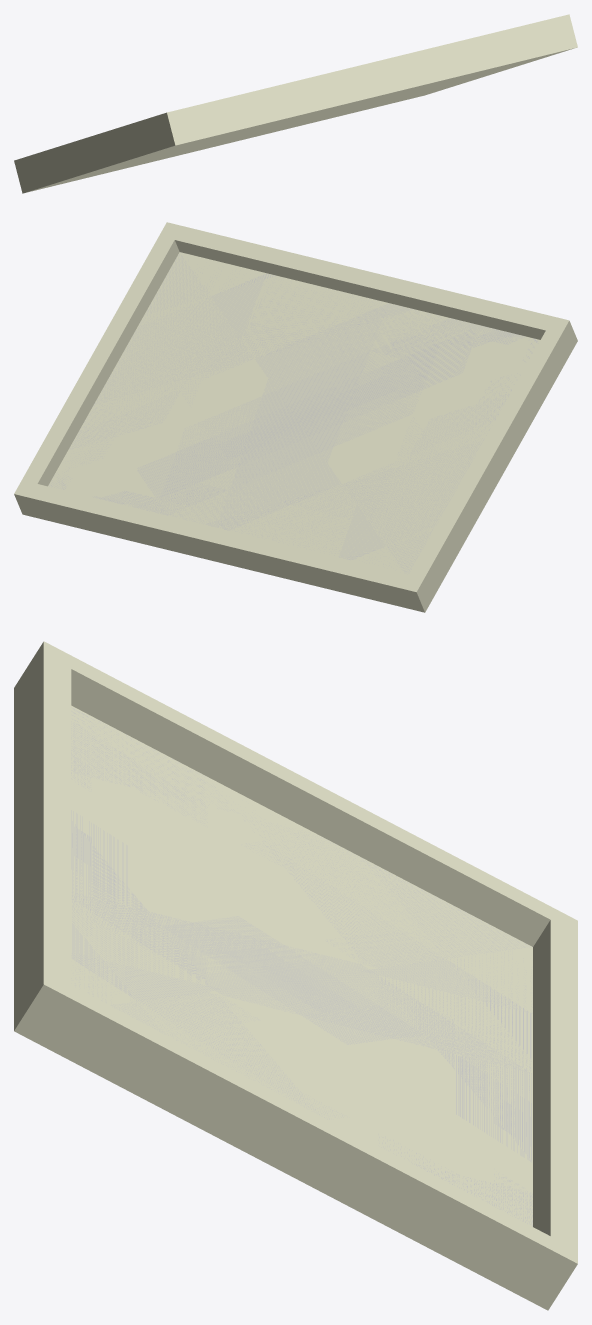
The model's file is original-2.obj.
3 renders of one model, top to bottom at view 1: azimuth 30°, elevation 25°; view 2: azimuth 150°, elevation 25°; view 3: azimuth 270°, elevation 25°, orthographic. The views are drawn at different scales.
Visible parts, largest first — view 1: Group28/mesh25/mesh25-geometry#mesh25-geometry; view 2: Group28/mesh25/mesh25-geometry#mesh25-geometry; view 3: Group28/mesh25/mesh25-geometry#mesh25-geometry.
Boxes of the visible parts, x1,y1,x2,y2 form: Group28/mesh25/mesh25-geometry#mesh25-geometry: [14, 14, 577, 193]; Group28/mesh25/mesh25-geometry#mesh25-geometry: [14, 222, 577, 612]; Group28/mesh25/mesh25-geometry#mesh25-geometry: [14, 641, 577, 1310].
Size of the model in its own units: 1.37 by 0.6055 by 0.9485.
